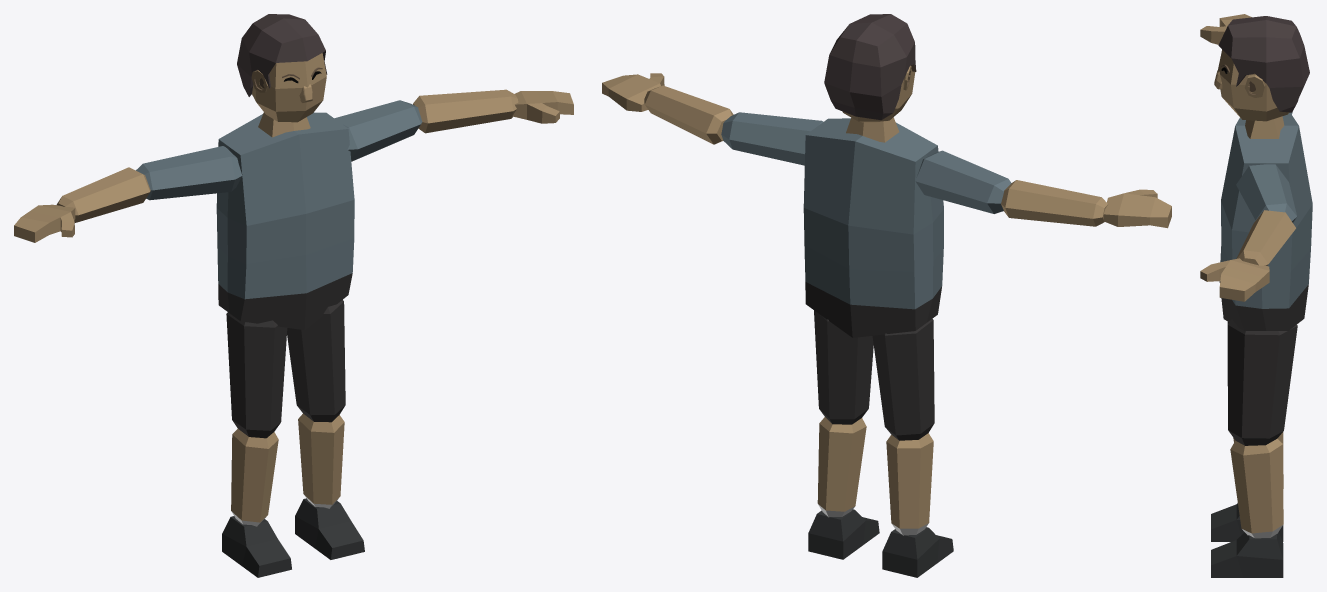
The model's file is Male Customer (1).fbx.
3 renders of one model, left to right at view 1: azimuth 30°, elevation 25°; view 2: azimuth 150°, elevation 25°; view 3: azimuth 270°, elevation 25°, orthographic.
Visible parts, largest first — view 1: Male Left Right Eyebrow; view 2: Male Left Right Eyebrow; view 3: Male Left Right Eyebrow.
Part boxes in pixels (box(x1,y1,x2,y2)): Male Left Right Eyebrow: box(14, 14, 573, 577); Male Left Right Eyebrow: box(602, 14, 1171, 577); Male Left Right Eyebrow: box(1200, 14, 1312, 577).
Bounding box in the file's own units: 1029 × 932 × 179.
